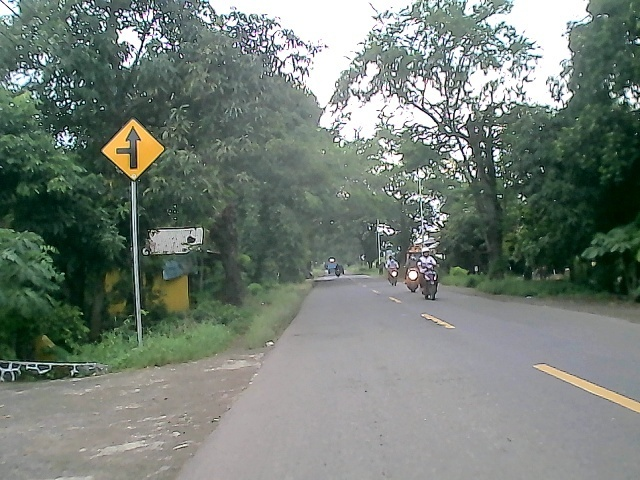Simpang kiri dengan prioritas: (102, 117, 166, 182)
